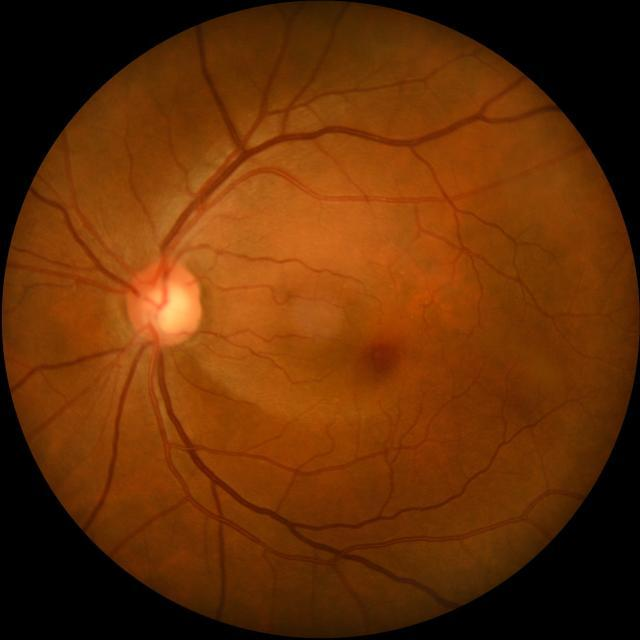OC: (144, 280, 190, 333)
OD: (125, 256, 202, 346)
